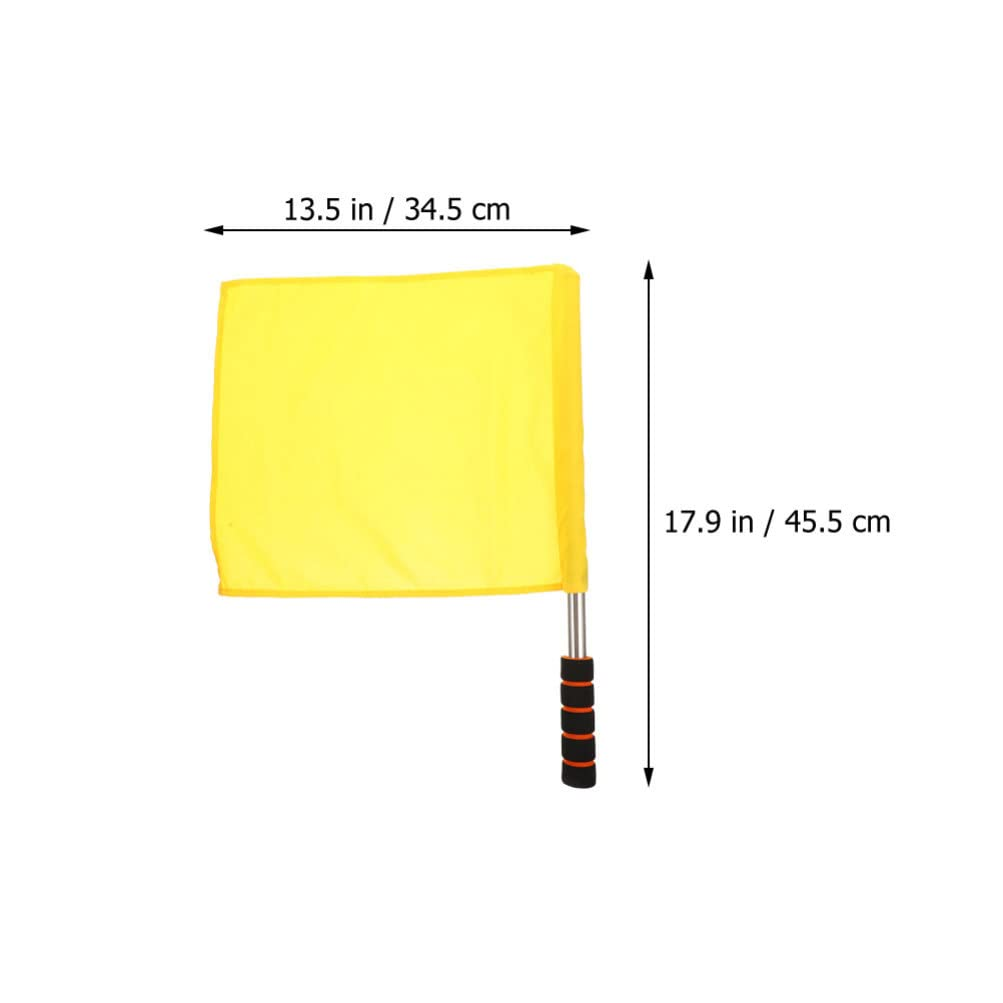/: (383, 197, 394, 225), (764, 509, 774, 537)
13.5: (286, 197, 340, 221)
17.9: (666, 510, 721, 533)
34.5: (406, 197, 461, 220)
45.5: (785, 510, 842, 533)
cm: (853, 515, 890, 533), (472, 203, 509, 220)
in: (732, 510, 753, 533), (352, 198, 372, 220)
